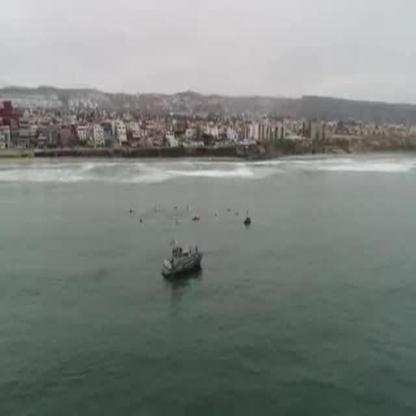Boat: (157, 242, 205, 281)
